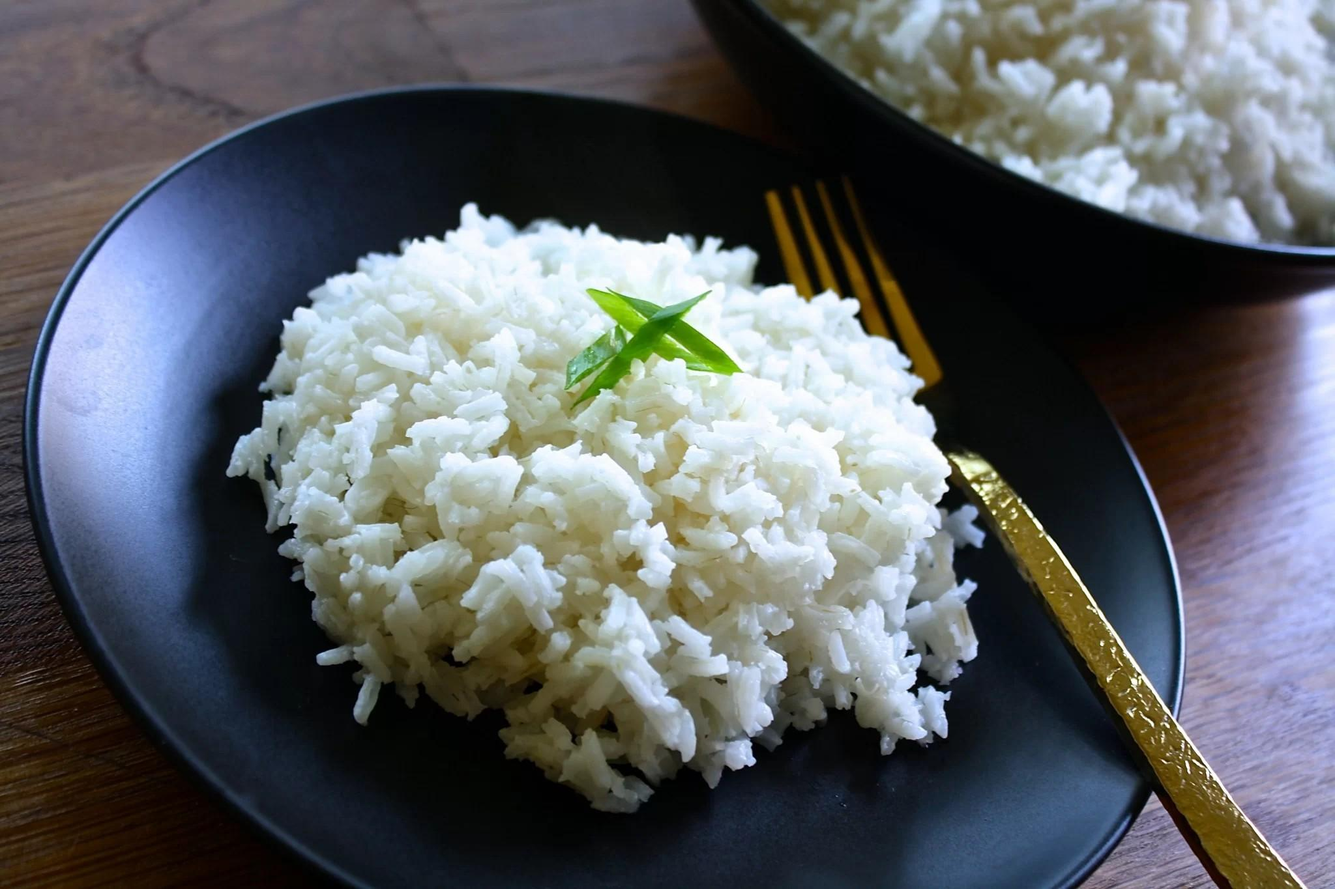WhiteRice: (225, 200, 988, 814)
